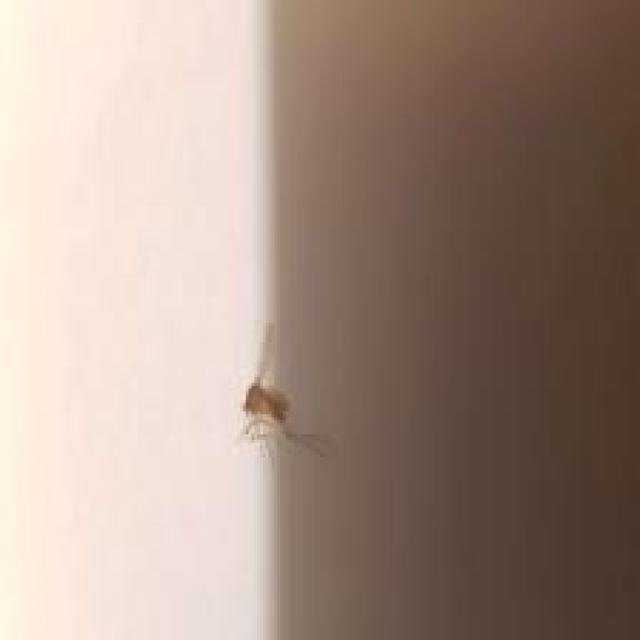Culex: (237, 318, 334, 462)
